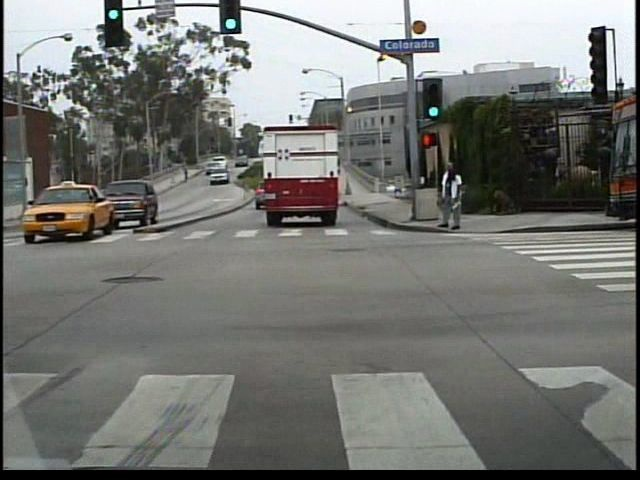person: (439, 159, 465, 233)
